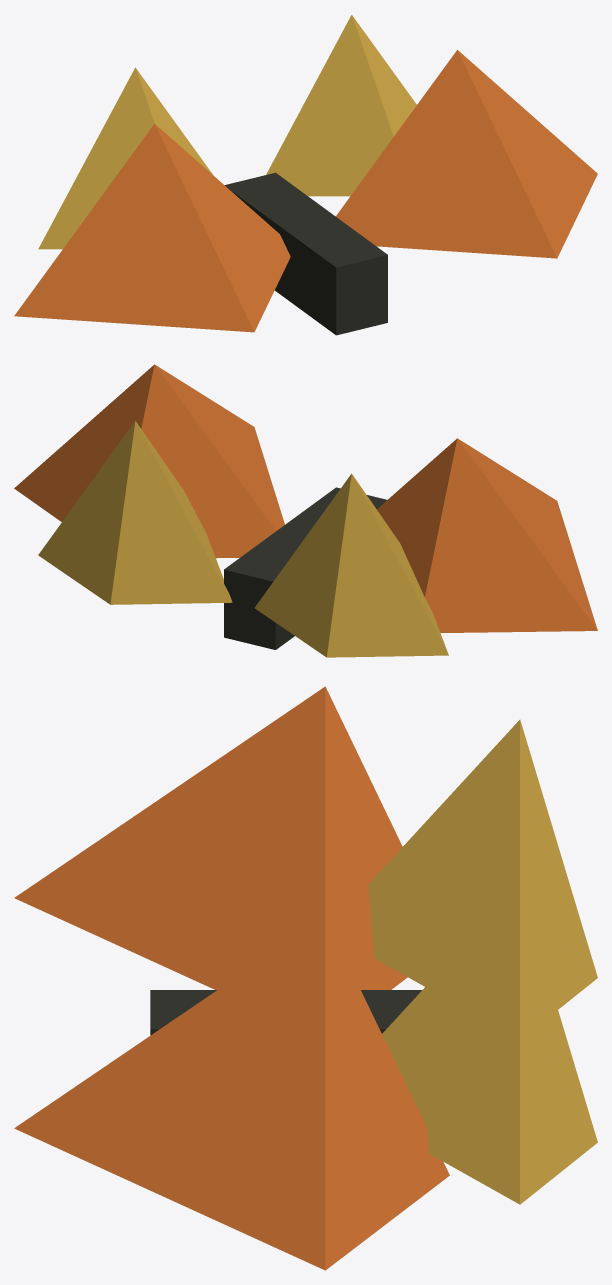
Rendered from butterfly_01.glb.
The picture shows the model from 3 angles, top to bottom: view 1: azimuth 30°, elevation 25°; view 2: azimuth 150°, elevation 25°; view 3: azimuth 270°, elevation 25°; orthographic projection. The views are drawn at different scales.
Parts seen in each view (by area): view 1: wing_left__orange, wing_right__orange, wing_right__yellow, body__dark, wing_left__yellow; view 2: wing_left__orange, wing_right__orange, wing_right__yellow, wing_left__yellow, body__dark; view 3: wing_right__orange, wing_left__orange, wing_right__yellow, wing_left__yellow, body__dark.
Part boxes in pixels (<box>): wing_left__orange: <box>14,123,290,332</box>; wing_right__orange: <box>336,50,597,258</box>; wing_right__yellow: <box>266,15,416,196</box>; body__dark: <box>224,172,387,335</box>; wing_left__yellow: <box>38,67,213,249</box>; wing_left__orange: <box>377,438,597,632</box>; wing_right__orange: <box>14,364,284,558</box>; wing_right__yellow: <box>38,421,232,604</box>; wing_left__yellow: <box>254,473,448,657</box>; body__dark: <box>224,487,386,649</box>; wing_right__orange: <box>14,917,449,1270</box>; wing_left__orange: <box>14,686,407,989</box>; wing_right__yellow: <box>382,884,597,1204</box>; wing_left__yellow: <box>368,719,597,1009</box>; body__dark: <box>150,990,421,1035</box>.
Size of the model in its own units: 0.135 by 0.0445 by 0.075.
